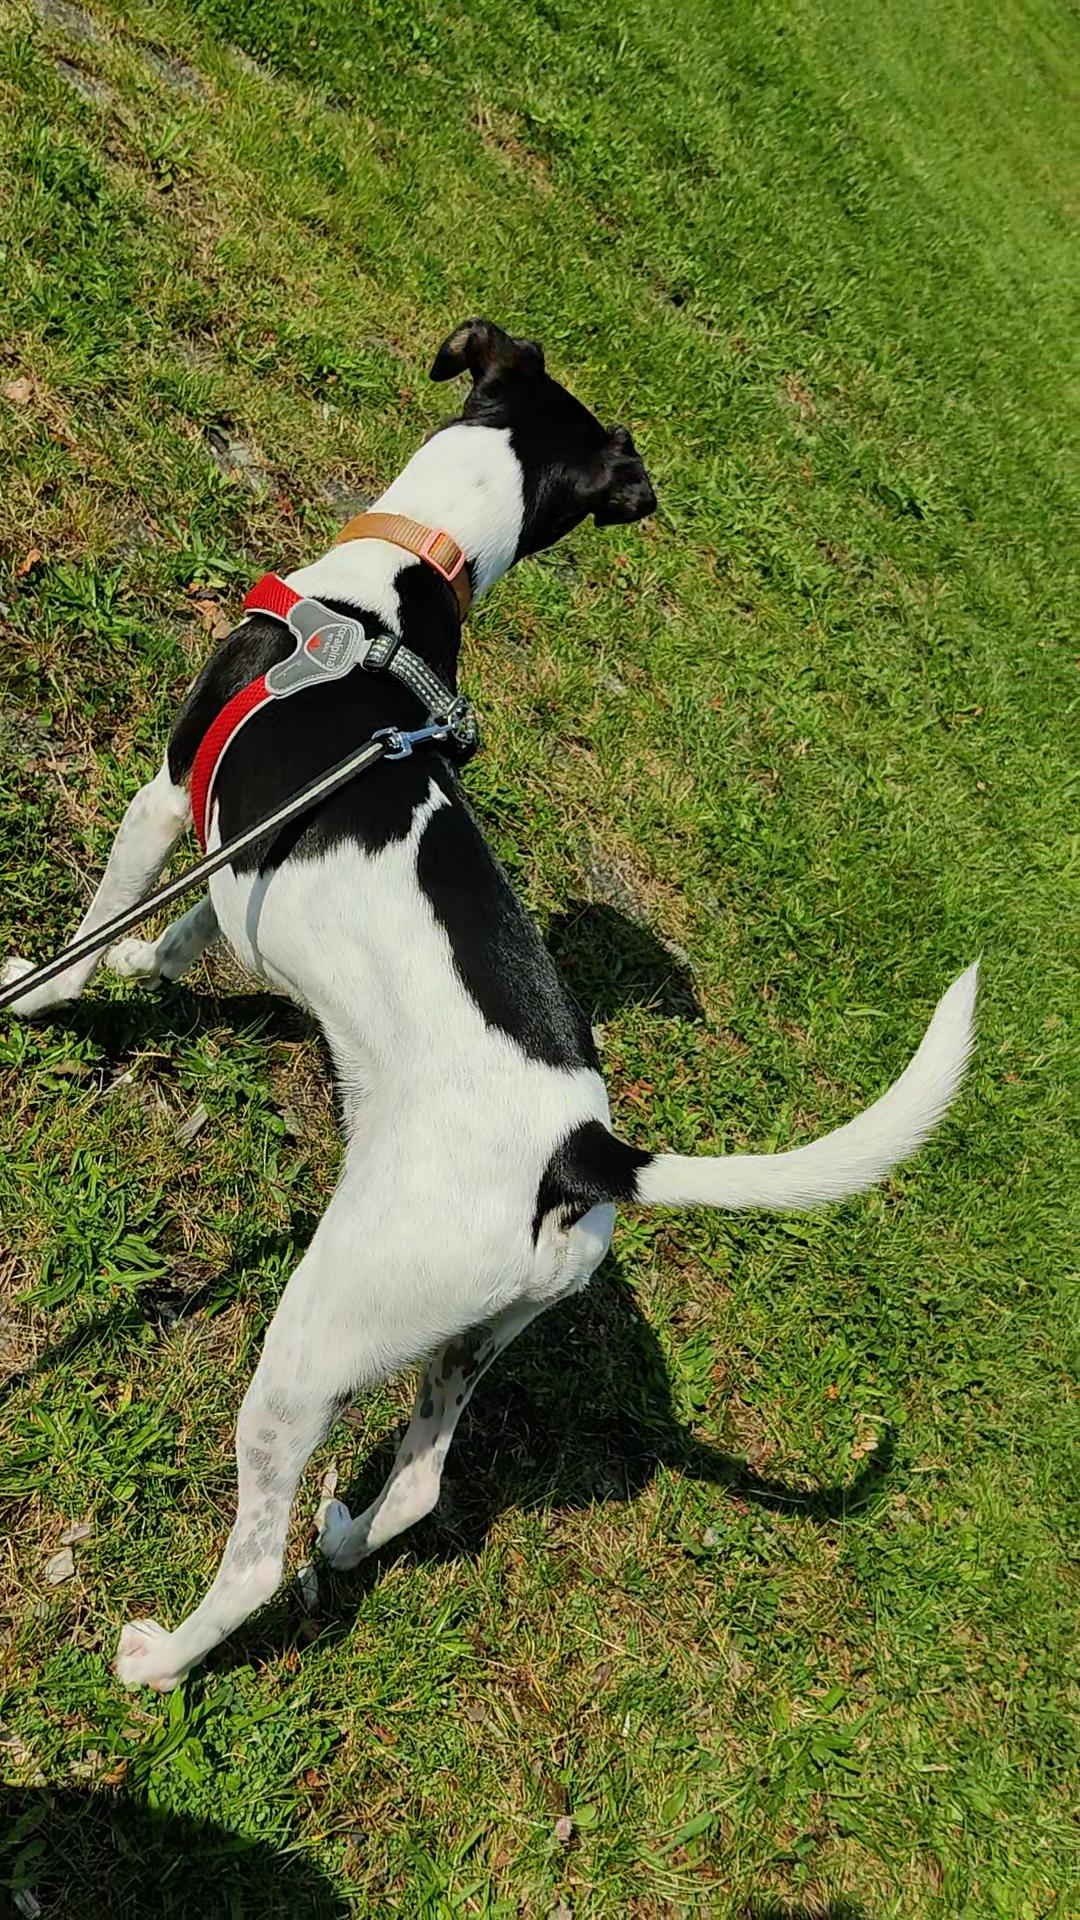Dog: (0, 293, 1011, 1697)
